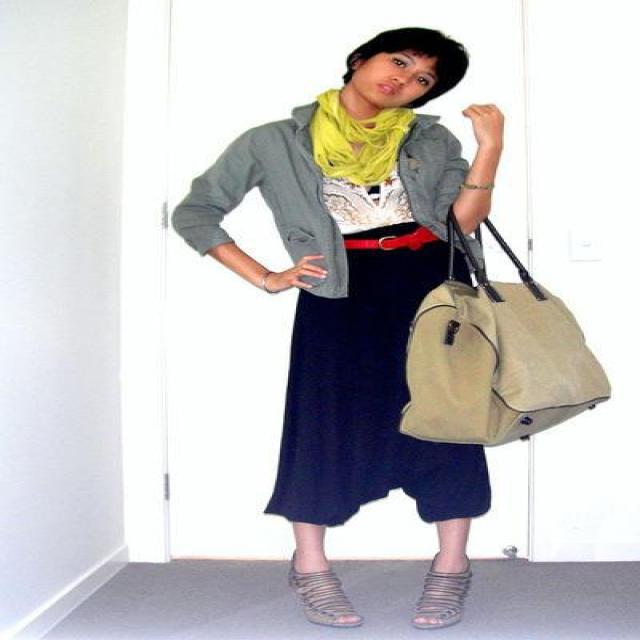bag: (400, 218, 610, 447)
jacket: (172, 90, 470, 298)
pants: (264, 243, 490, 526)
shirt: (323, 170, 413, 232)
shoe: (294, 558, 470, 629)
